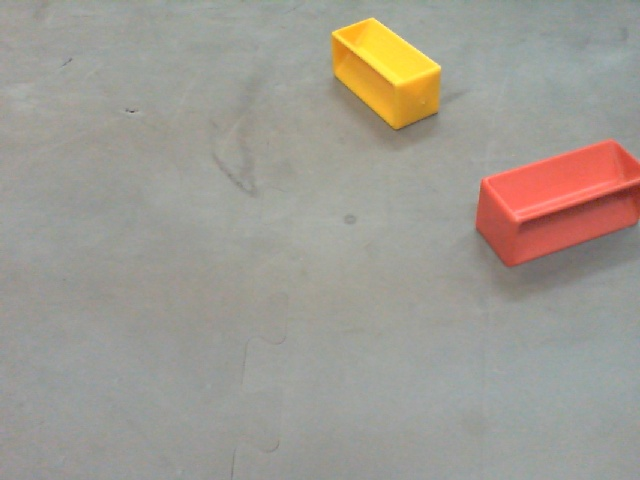RedSample: (474, 136, 640, 267)
YellowSample: (332, 18, 443, 131)
